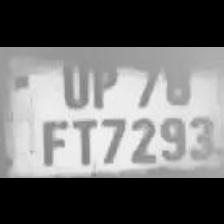2: (124, 113, 156, 163)
3: (185, 108, 215, 160)
7: (124, 51, 158, 107), (96, 112, 124, 164)
9: (156, 110, 186, 160)
F: (34, 113, 70, 166)
P: (86, 49, 120, 107)
T: (67, 113, 97, 166)
U: (57, 48, 91, 108)
